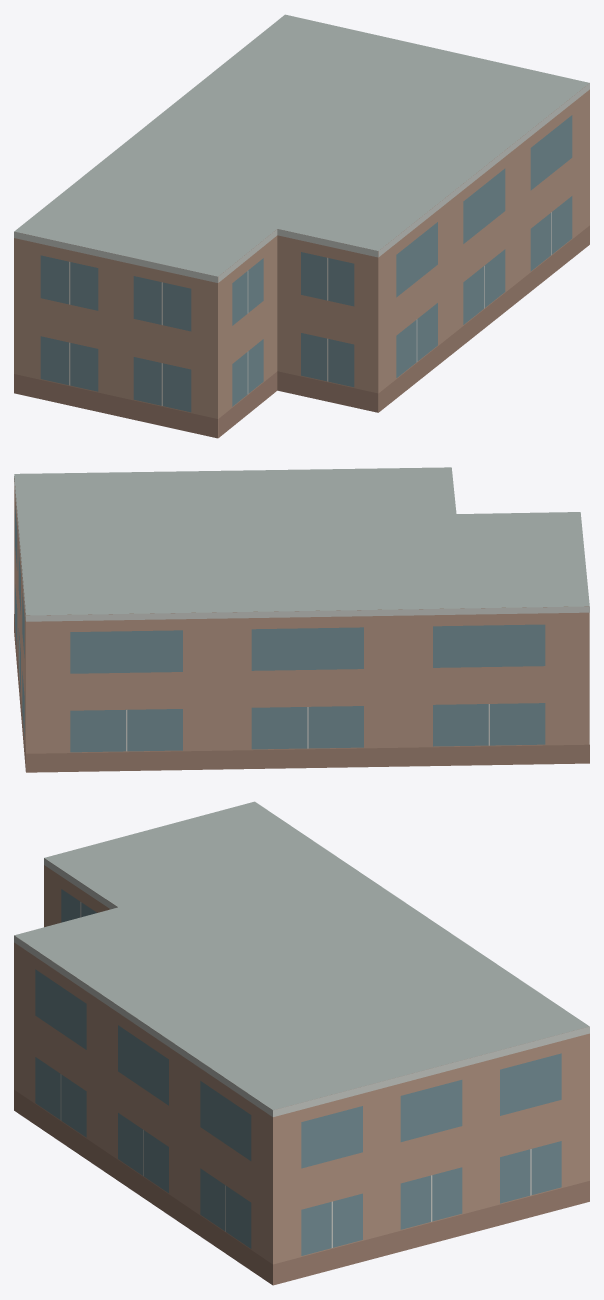
Rendered from survey-upis-33028790.glb.
The picture shows the model from 3 angles, top to bottom: view 1: azimuth 30°, elevation 25°; view 2: azimuth 150°, elevation 25°; view 3: azimuth 270°, elevation 25°; orthographic projection. The views are drawn at different scales.
Parts seen in each view (by area): view 1: survey-upis-33028790.tmp; view 2: survey-upis-33028790.tmp; view 3: survey-upis-33028790.tmp.
Boxes of the visible parts, box(x1,y1,x2,y2) form: survey-upis-33028790.tmp: box(14, 14, 589, 438); survey-upis-33028790.tmp: box(14, 467, 589, 772); survey-upis-33028790.tmp: box(14, 801, 589, 1285).
Size of the model in its own units: 23.07 by 6.1 by 18.18.
